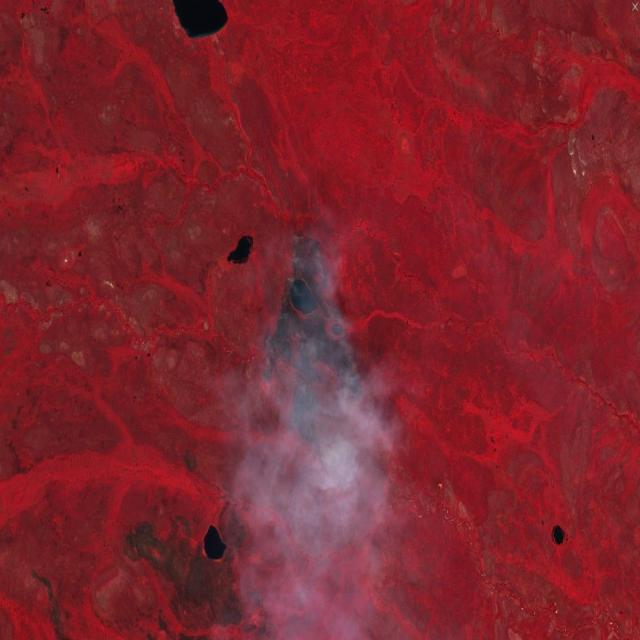fire: (254, 224, 370, 466)
